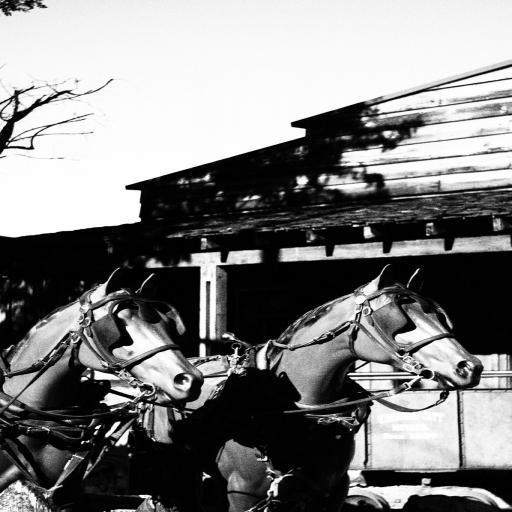horse: (104, 262, 484, 512), (0, 266, 207, 512)
